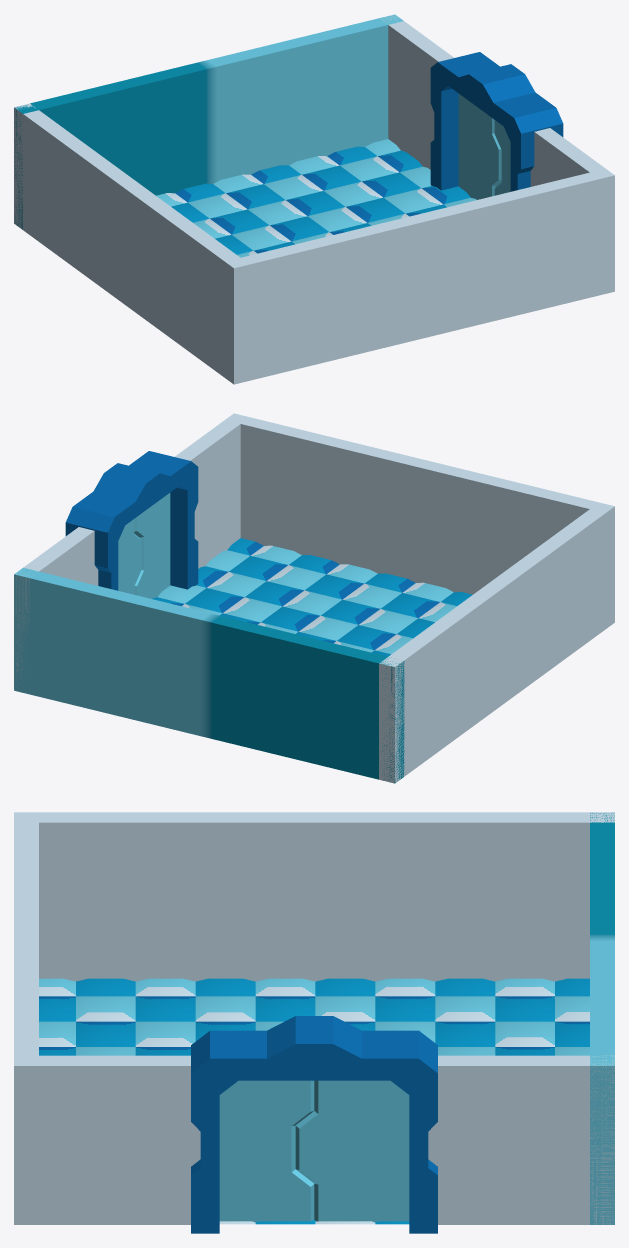
The model's file is RoomOnly.fbx.
3 views of the same model, one above another, from view 1: azimuth 30°, elevation 25°; view 2: azimuth 150°, elevation 25°; view 3: azimuth 270°, elevation 25° (orthographic). The views are drawn at different scales.
Visible parts, largest first — view 1: polySurface100, polySurface202, polySurface101, polySurface368, polySurface205, polySurface204, polySurface206, polySurface203, polySurface207; view 2: polySurface202, polySurface100, polySurface101, polySurface368, polySurface205, polySurface203, polySurface204, polySurface207, polySurface206; view 3: polySurface101, polySurface368, polySurface204, polySurface203, polySurface205, polySurface206, polySurface207, polySurface100, polySurface202.
Part boxes in pixels (left/top/right/bottom): polySurface100: left=224, top=168, right=614, bottom=384; polySurface202: left=14, top=14, right=403, bottom=229; polySurface101: left=14, top=103, right=249, bottom=384; polySurface368: left=156, top=139, right=476, bottom=257; polySurface205: left=430, top=52, right=563, bottom=191; polySurface204: left=381, top=14, right=453, bottom=169; polySurface206: left=458, top=94, right=501, bottom=199; polySurface203: left=530, top=128, right=614, bottom=291; polySurface207: left=494, top=120, right=510, bottom=195; polySurface202: left=14, top=567, right=404, bottom=783; polySurface100: left=225, top=413, right=614, bottom=627; polySurface101: left=379, top=502, right=614, bottom=783; polySurface368: left=152, top=538, right=472, bottom=656; polySurface205: left=65, top=451, right=198, bottom=590; polySurface203: left=175, top=414, right=247, bottom=568; polySurface204: left=14, top=527, right=98, bottom=692; polySurface207: left=134, top=493, right=170, bottom=598; polySurface206: left=118, top=519, right=141, bottom=594; polySurface101: left=14, top=812, right=614, bottom=981; polySurface368: left=39, top=978, right=589, bottom=1224; polySurface204: left=428, top=1055, right=614, bottom=1224; polySurface203: left=14, top=1055, right=200, bottom=1224; polySurface205: left=191, top=1016, right=437, bottom=1233; polySurface206: left=295, top=1080, right=409, bottom=1222; polySurface207: left=219, top=1080, right=314, bottom=1222; polySurface100: left=14, top=812, right=38, bottom=1224; polySurface202: left=590, top=812, right=614, bottom=1224.
Bounding box in the file's own units: 24.83 × 8.36 × 24.
